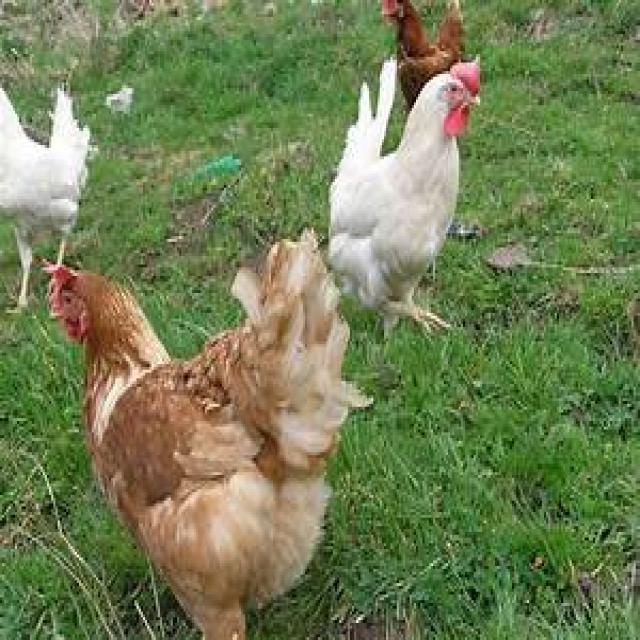hen: (51, 238, 364, 636), (329, 60, 479, 331), (0, 89, 90, 306), (381, 0, 462, 108)
